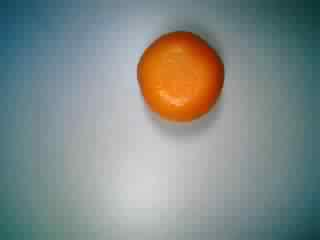orange: (133, 29, 228, 125)
